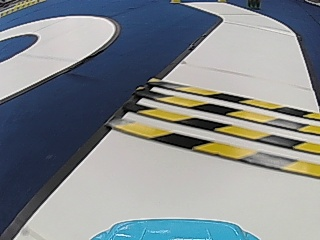bump: (149, 89, 302, 170)
